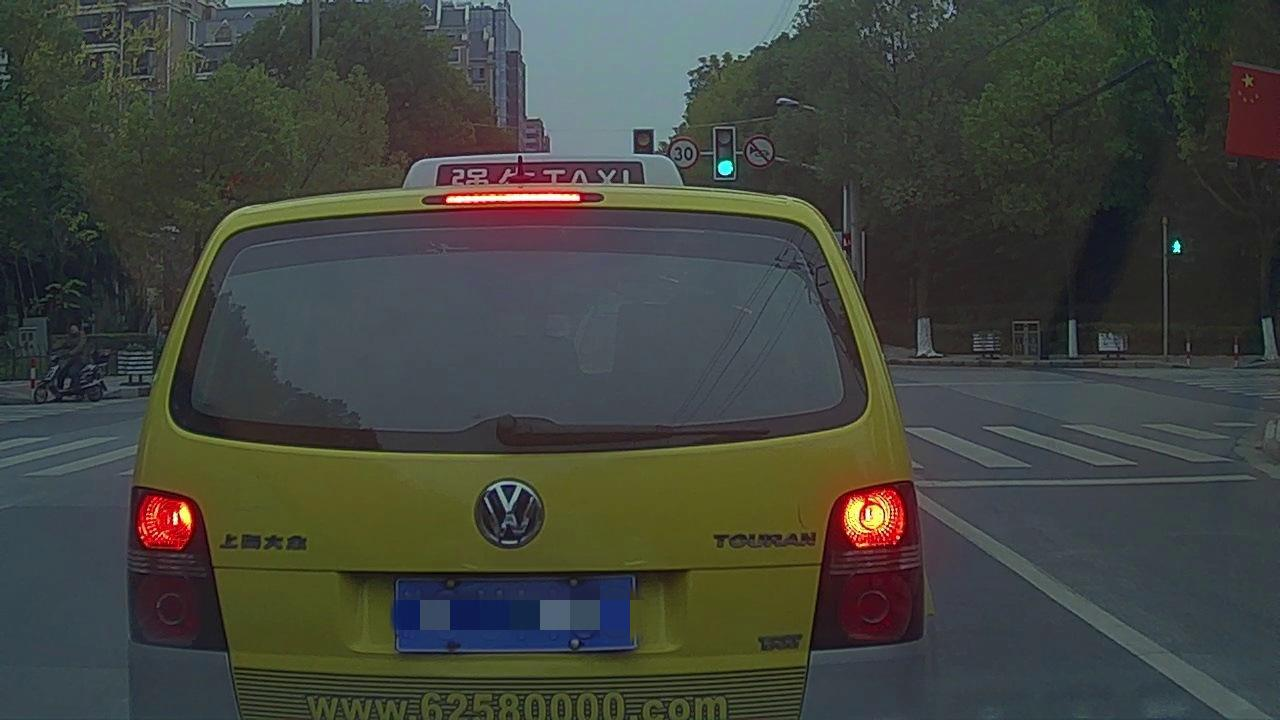traffic_light: (715, 130, 736, 177), (633, 131, 654, 156)
